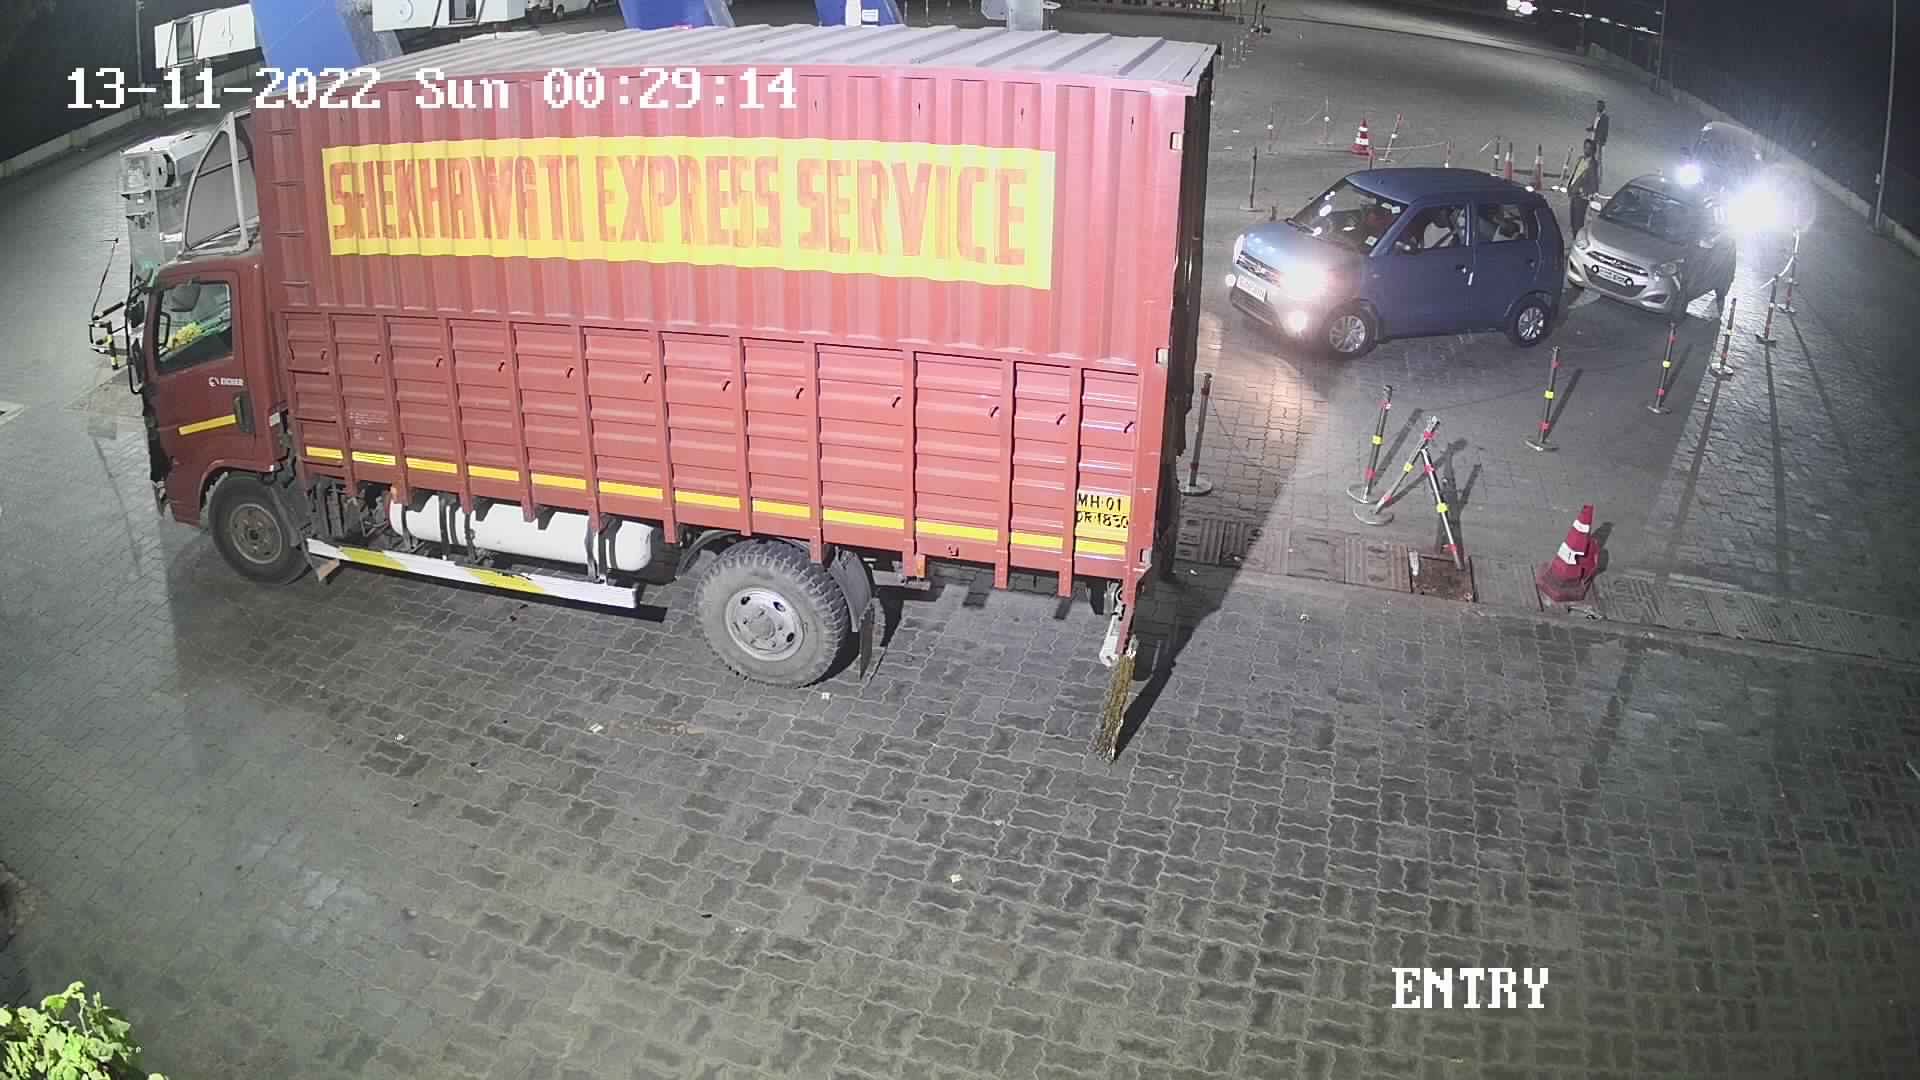Car: (1220, 156, 1571, 360), (1563, 165, 1746, 324), (1663, 113, 1789, 269)
HMV: (88, 1, 1241, 767)
